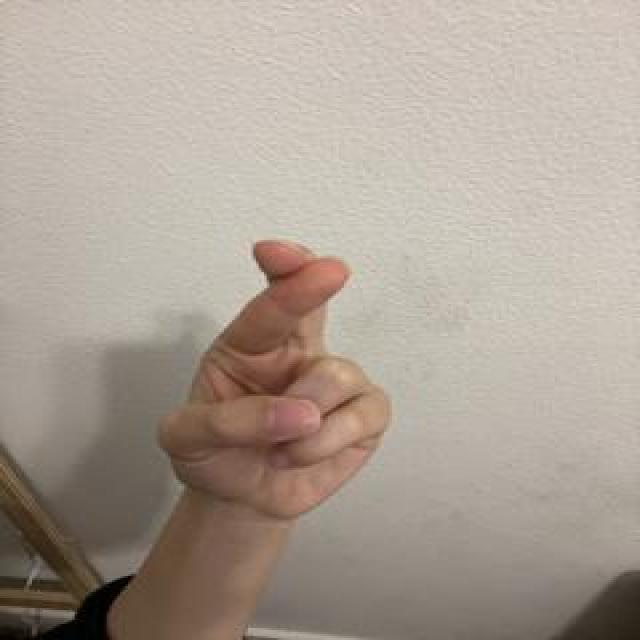R: (149, 232, 400, 524)
